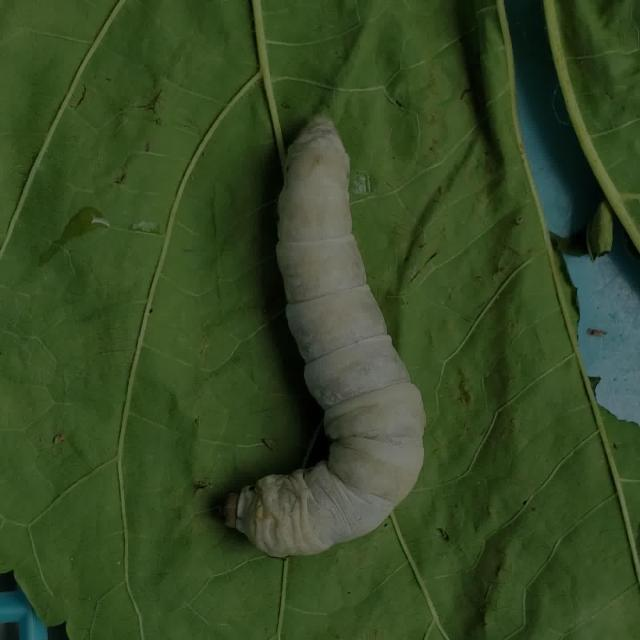Grasserie: (205, 102, 434, 567)
